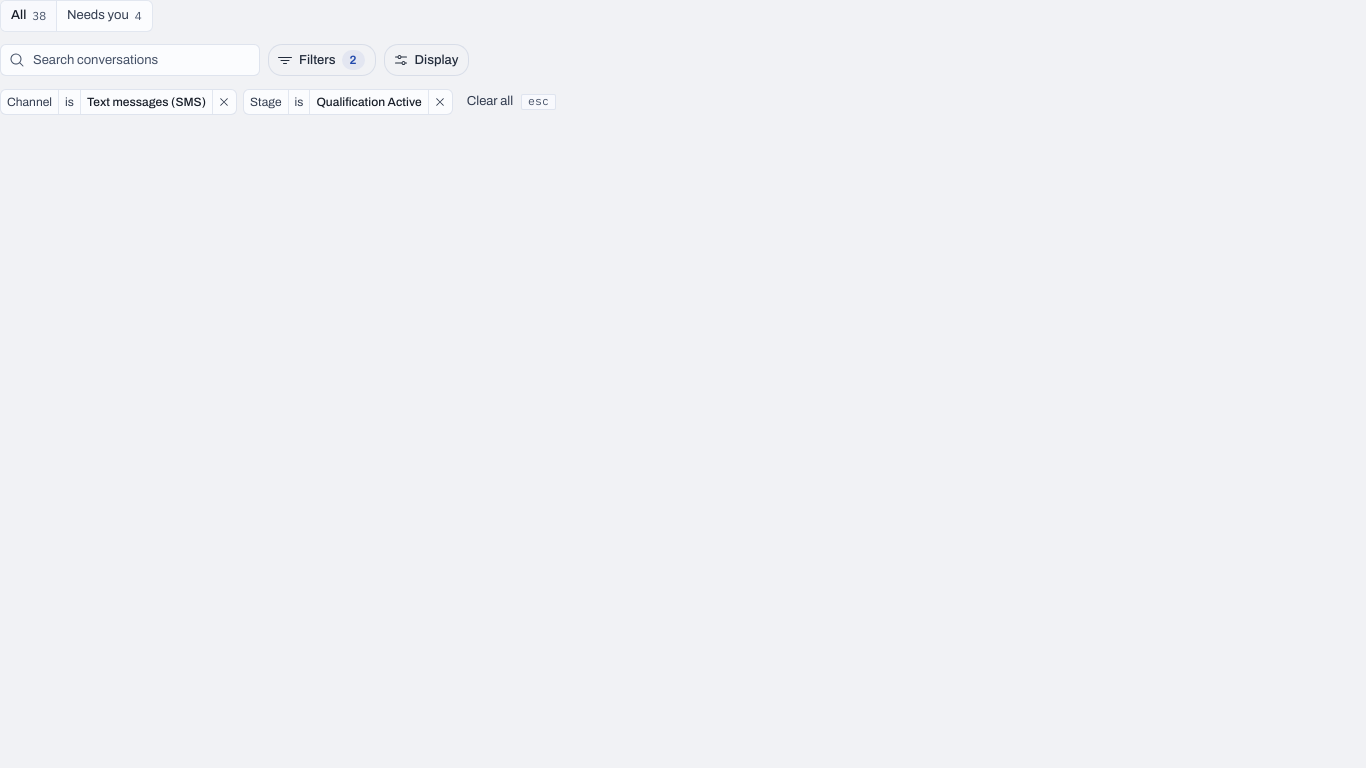
FilterBar › canonicalizes unknown and duplicate facet values
The image size is (1366, 768).
Expected: the text "Text messages (SMS)" is shown, [80,90,212,114]
Expected: the text "Qualification Active" is shown, [309,90,428,114]
Click the button "Filters 2" at (322, 60), box [268,44,376,76]
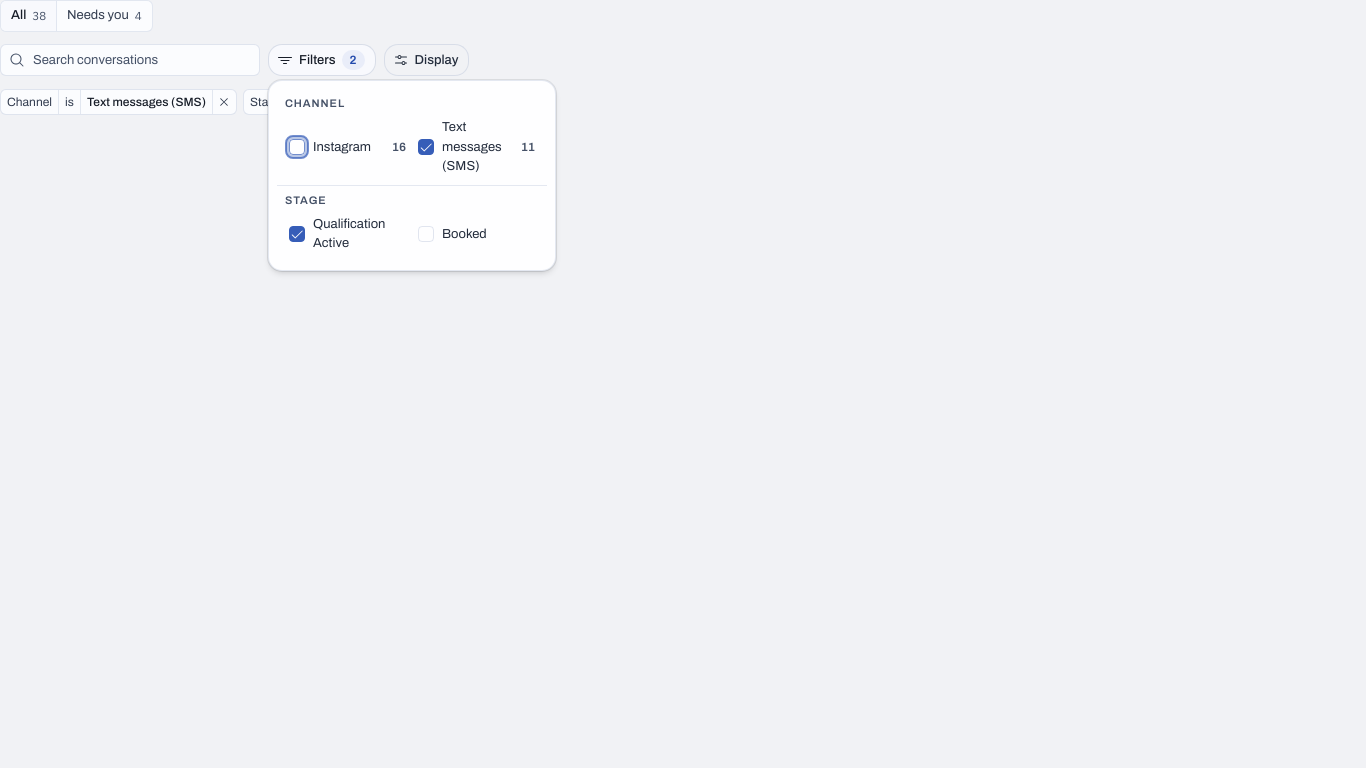
Expected: the checkbox named "Stage: Booked" is not checked, [418,226,434,242]
Expected: the checkbox named "Channel: Text messages (SMS)" is checked, [418,139,434,155]
Expected: the checkbox named "Stage: Qualification Active" is checked, [289,226,305,242]
